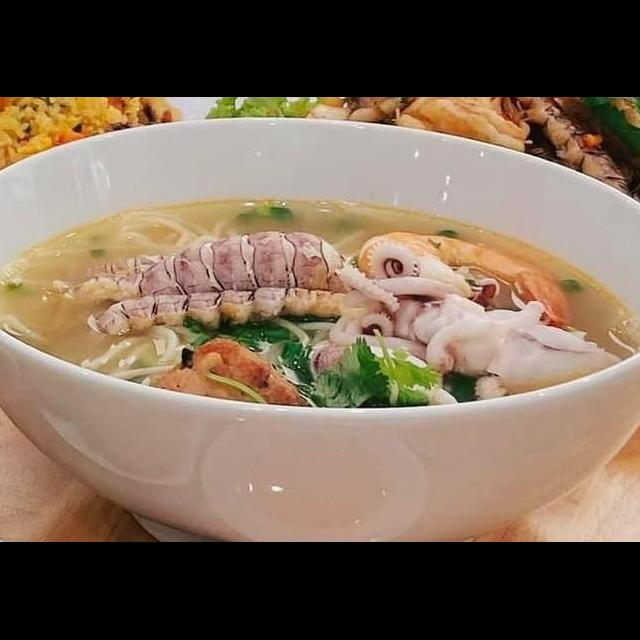bun: (75, 318, 208, 390), (100, 202, 247, 256)
bun hai san: (0, 122, 640, 540)
muc: (324, 238, 503, 378), (412, 290, 626, 406)
tom: (351, 228, 577, 334)
tom tit: (48, 226, 363, 314), (79, 284, 361, 340)
